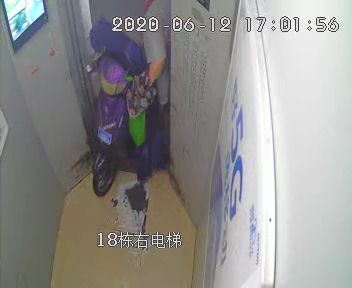Electric-bicycle: (87, 23, 166, 193)
